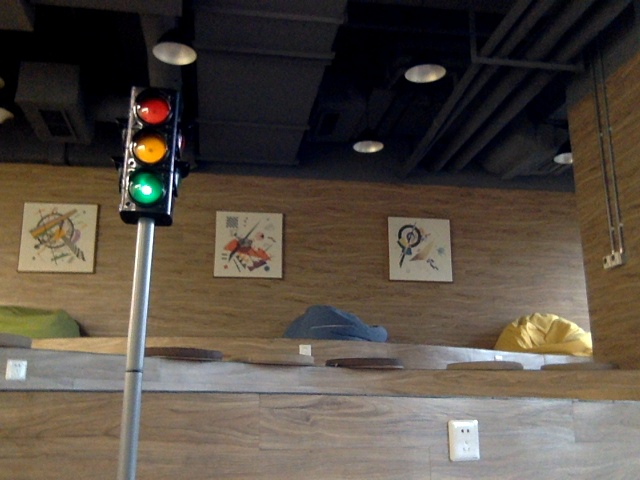green: (123, 91, 172, 210)
